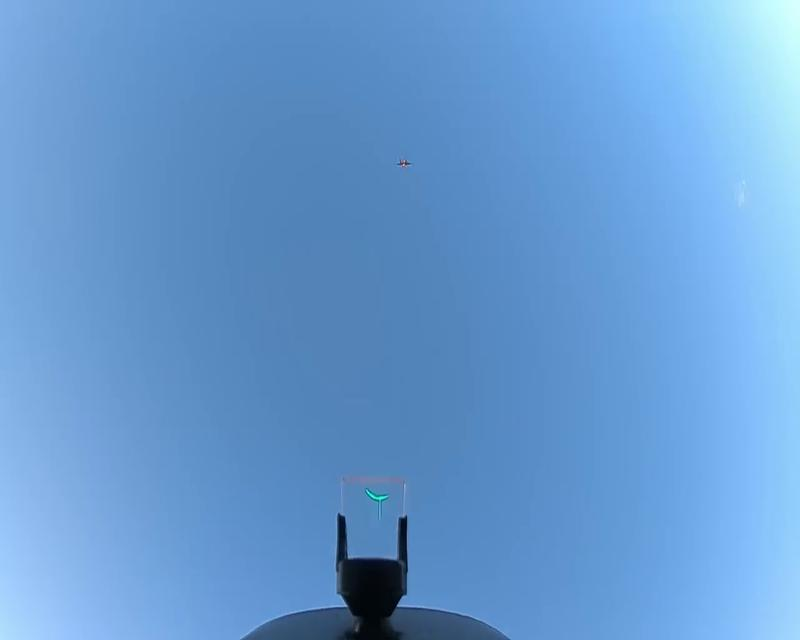UAV: (395, 156, 412, 168)
